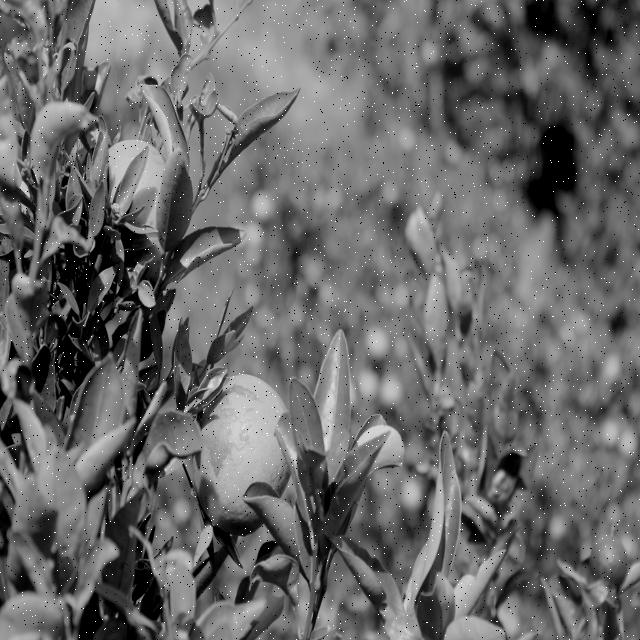healthy: (414, 438, 462, 618), (338, 424, 400, 536), (219, 87, 300, 170), (23, 93, 87, 189), (33, 456, 80, 572), (243, 479, 307, 563), (75, 355, 128, 446), (165, 228, 246, 287), (142, 70, 192, 164), (144, 402, 204, 475), (319, 332, 351, 465), (156, 143, 194, 252)
